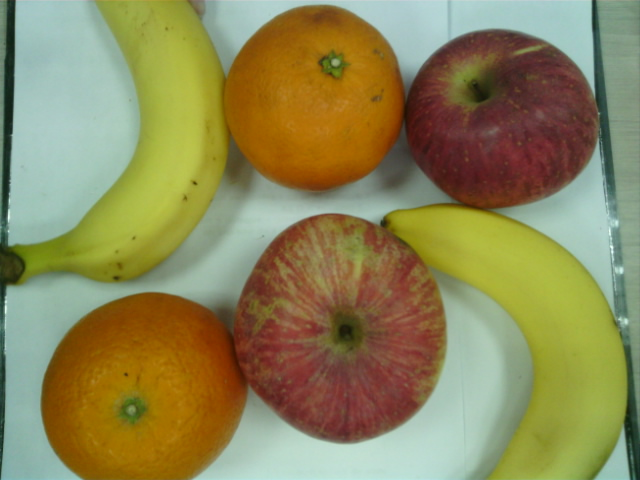normal_apple: (235, 213, 448, 443), (410, 29, 601, 207)
normal_banana: (383, 203, 627, 480), (4, 2, 222, 284)
normal_orange: (42, 293, 247, 480), (226, 5, 402, 189)
